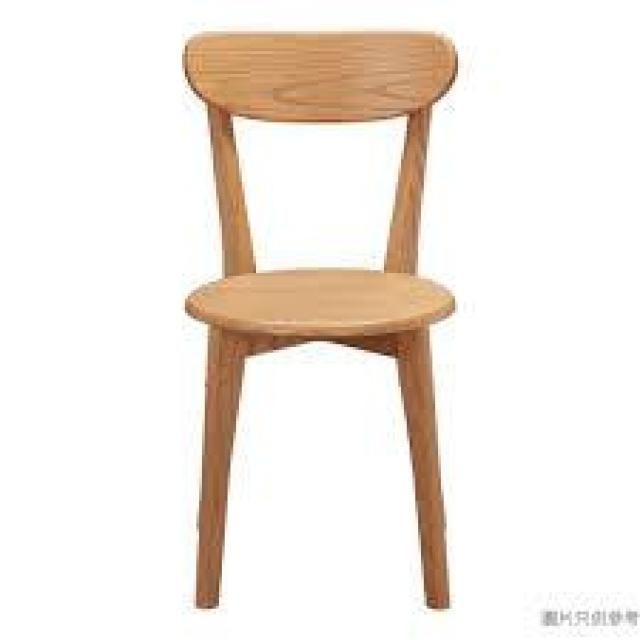chair: (145, 4, 504, 622)
